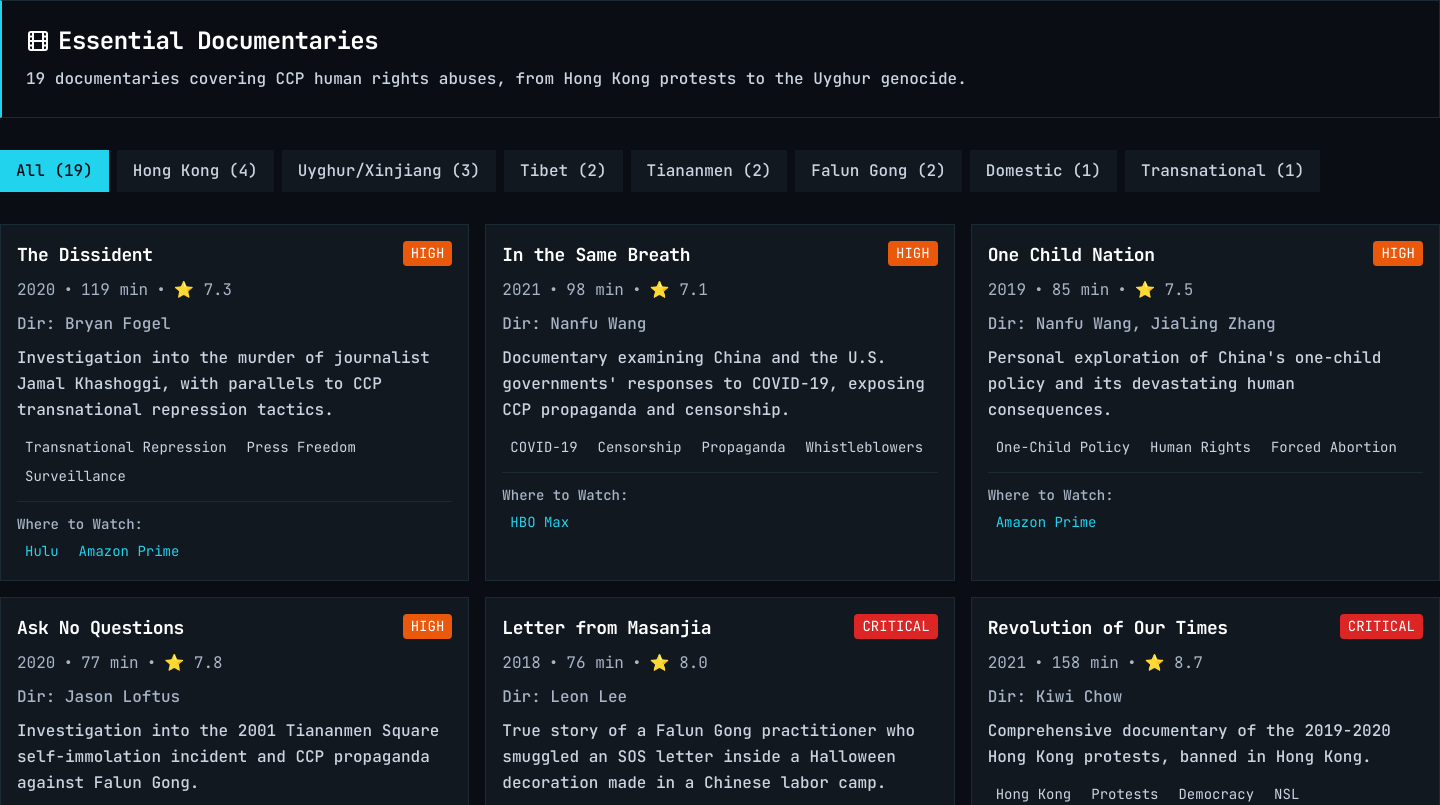
it: DocumentaryList › returns to all documentaries when All is clicked
The width and height of the screenshot is (1440, 805).
What coordinates should you click on to do the following:
click the tab "Hong Kong (4)"
I would click on:
 (195, 171)
Its box is [117, 150, 274, 192].
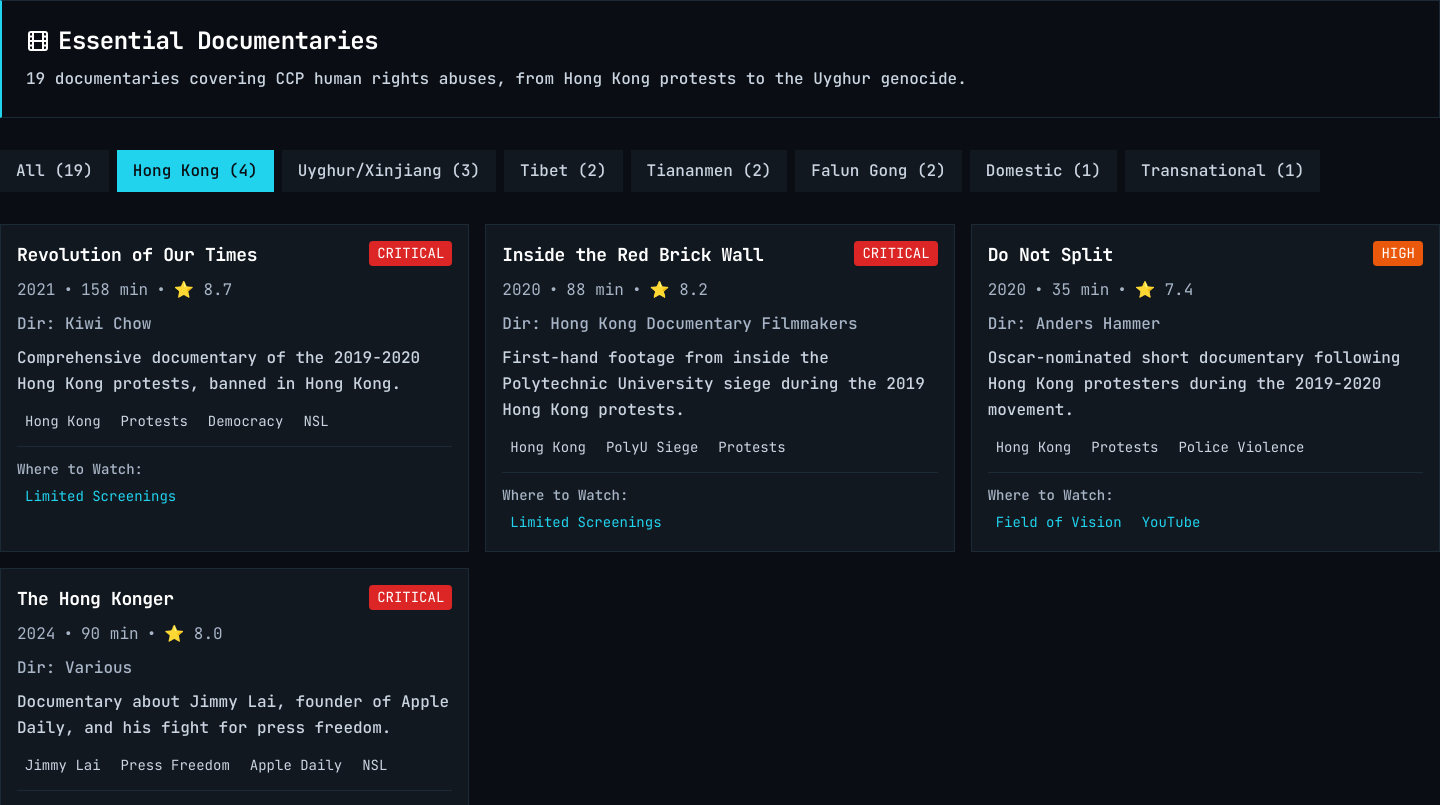
Result: the heading "The Dissident" is gone
What coordinates should you click on to do the following:
click the tab "All (19)"
I would click on:
 (54, 171)
Its box is [0, 150, 109, 192].
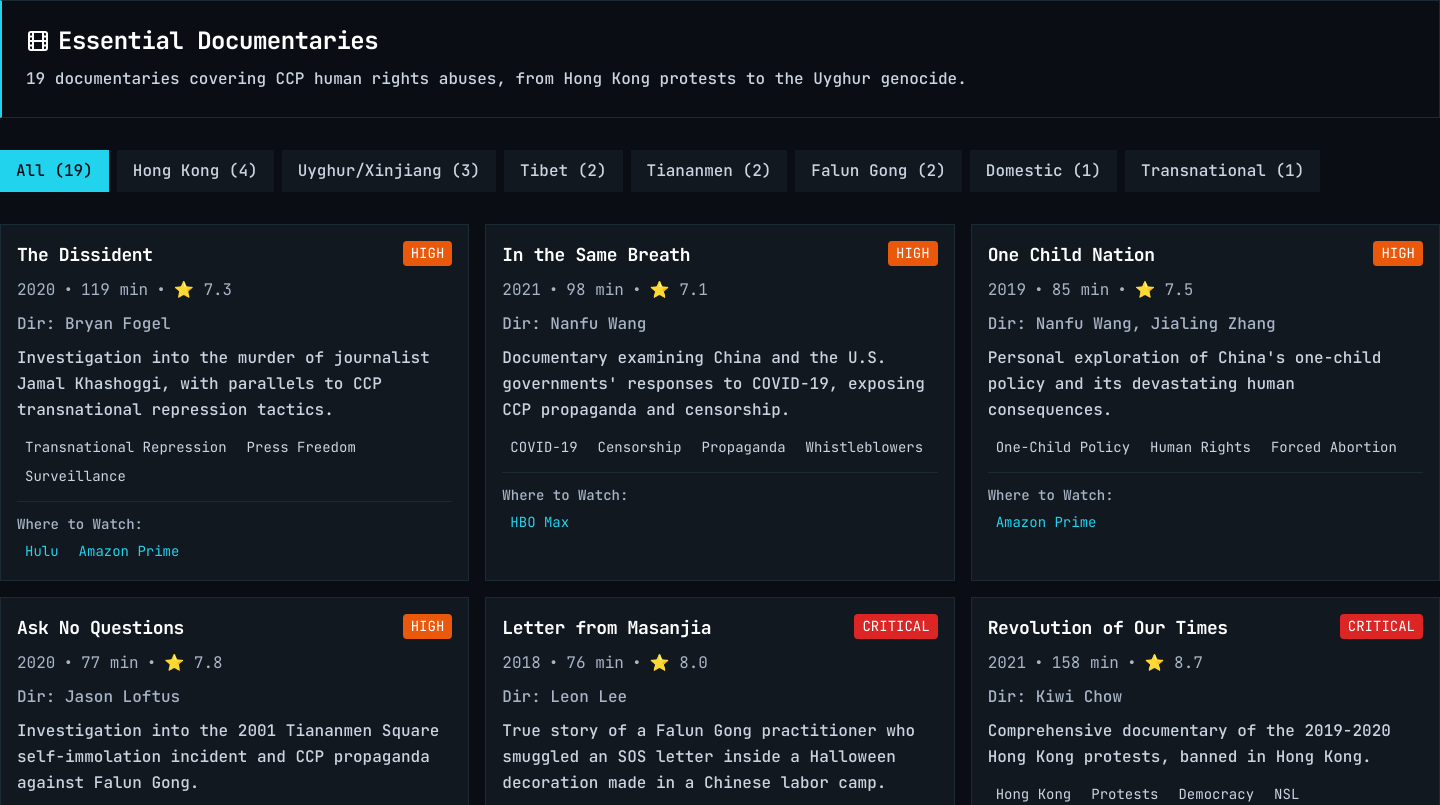
Result: the heading "The Dissident" is shown at [17, 241, 153, 269]
